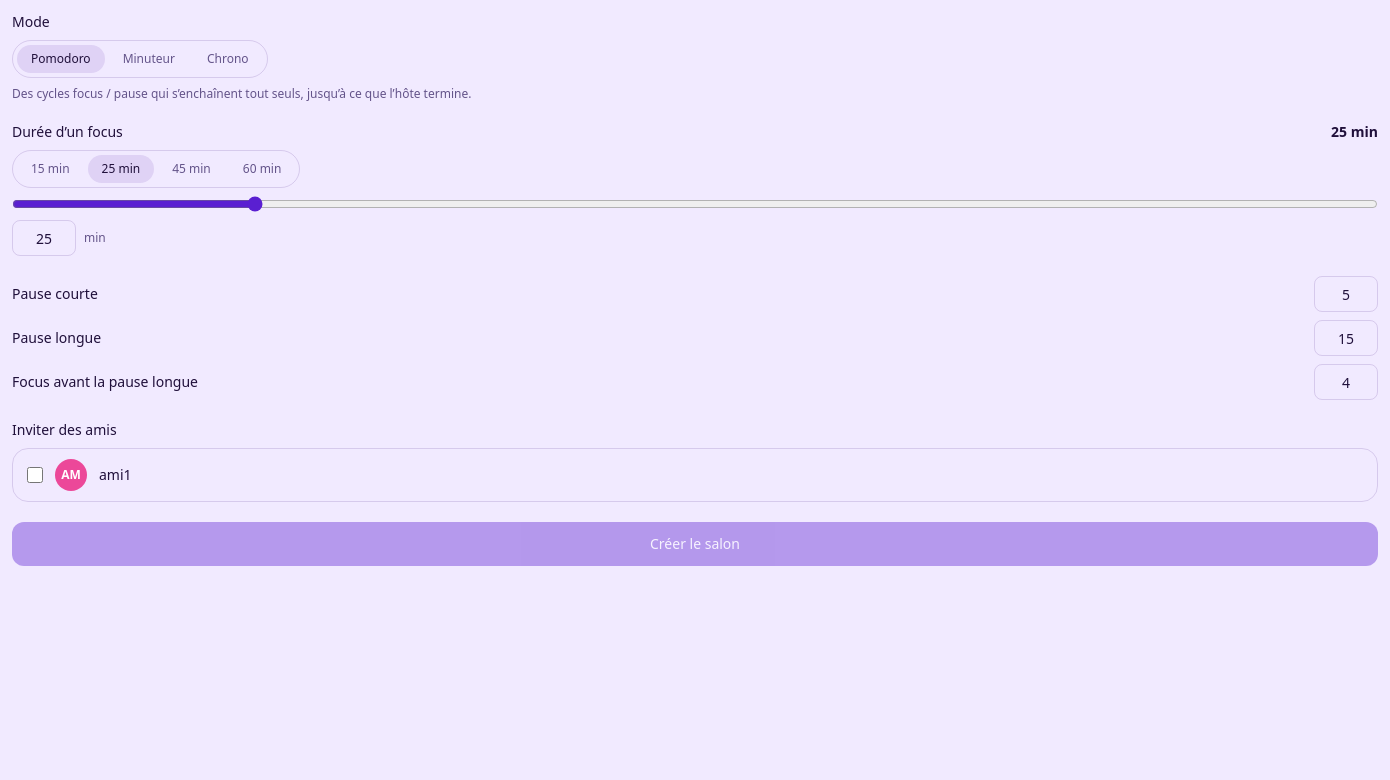
Test: CreateRoomForm — LOT F3 › ajuste une durée saisie hors bornes, avec un message explicite (LOT H1, §4)
Replace the text in the number field named "Durée exacte, en minutes" with "500". click: (44, 238)
box: [12,220,76,256]
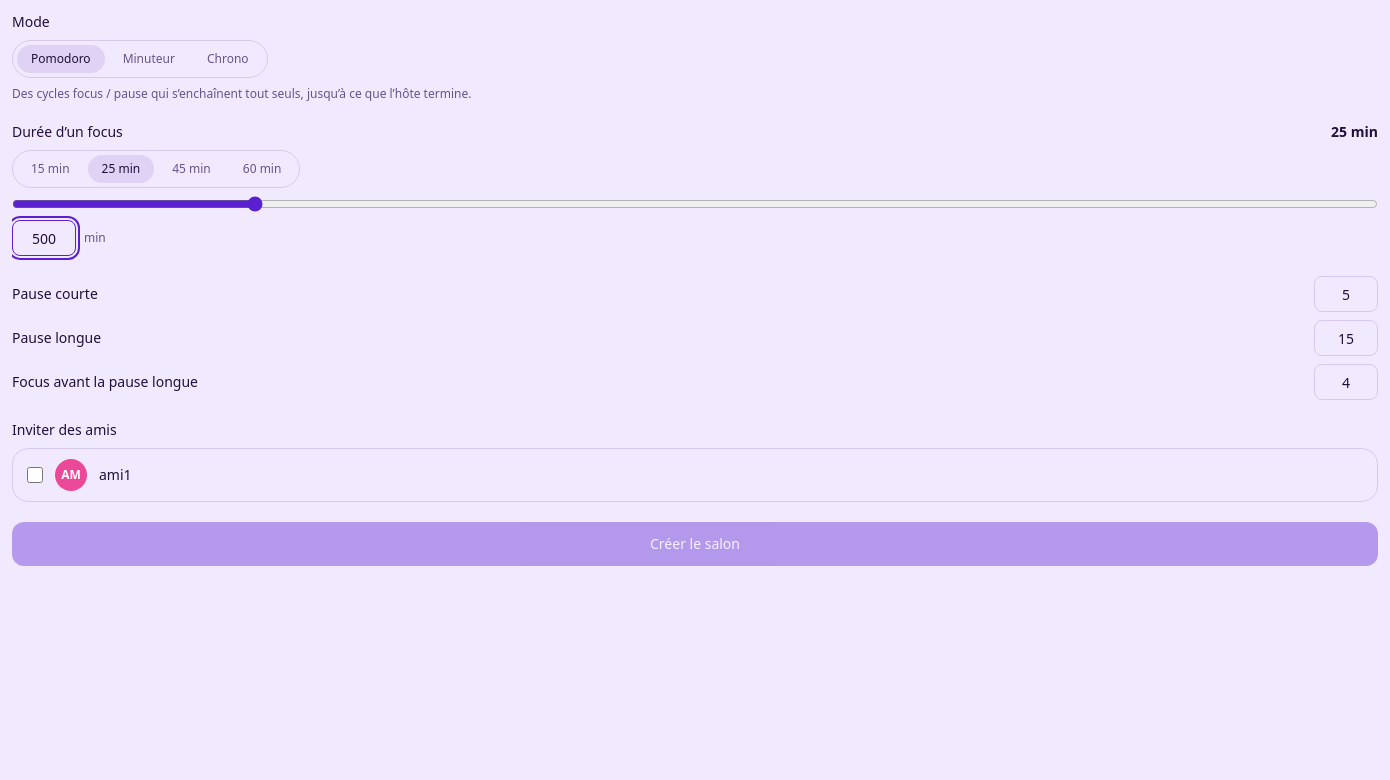
Press Tab
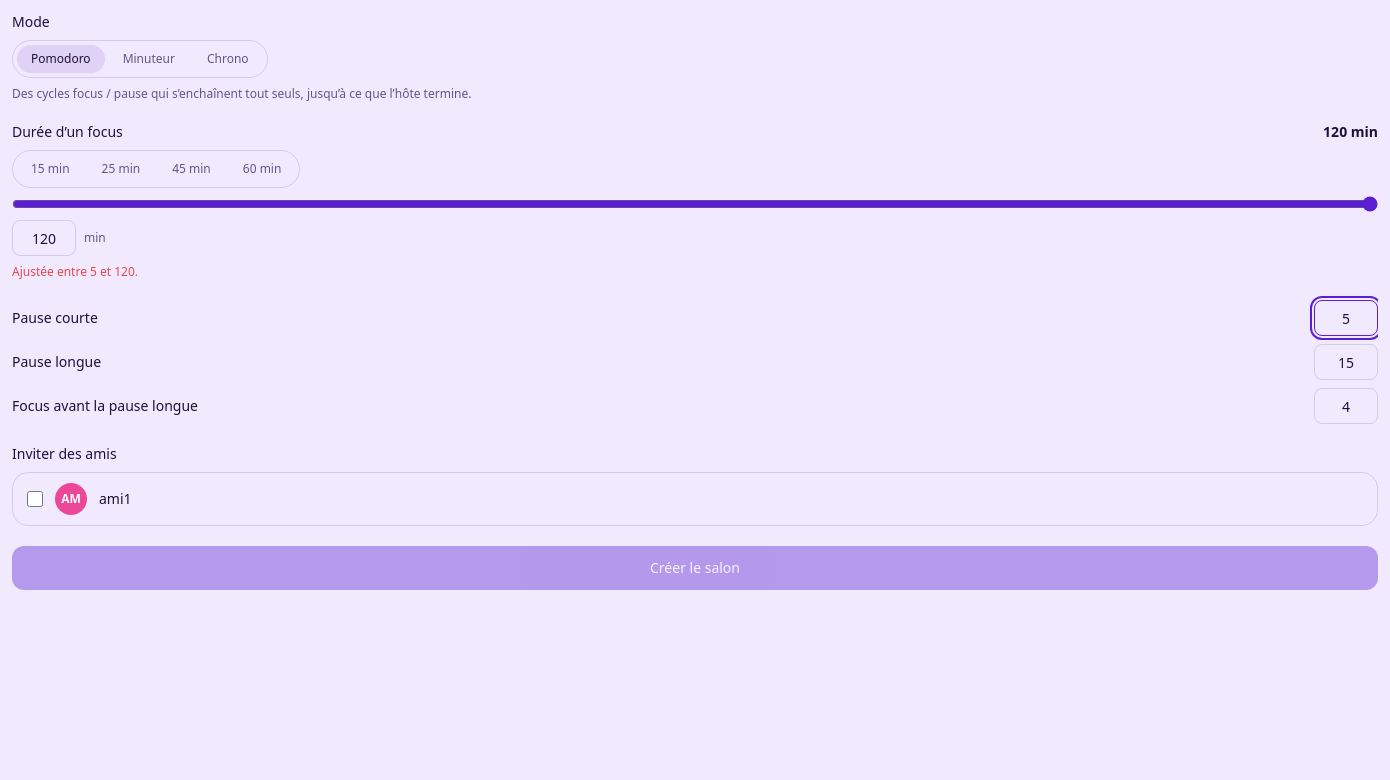
Result: the number field named "Durée exacte, en minutes" holds "120" at [12,220,76,256]
Result: the message reads "Ajustée entre 5 et 120." at [12,263,138,280]
